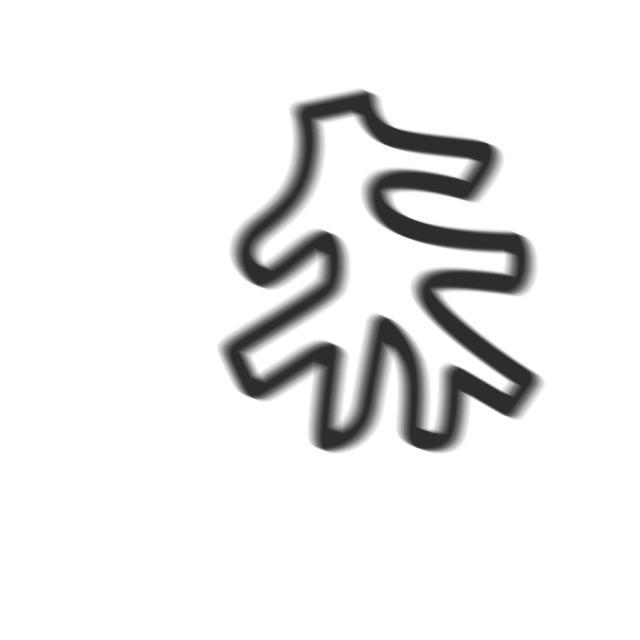coral: (210, 83, 549, 467)
